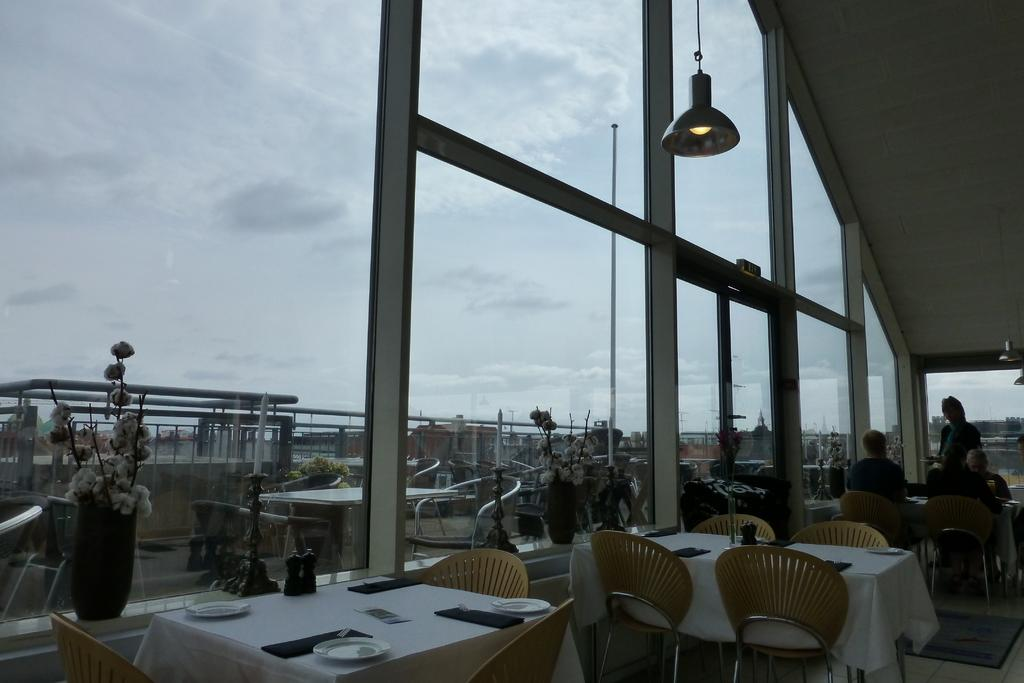Chair: (714, 544, 849, 682), (590, 530, 707, 682), (467, 596, 575, 682), (924, 494, 993, 605), (48, 611, 154, 682), (419, 548, 529, 599), (690, 513, 776, 541)
Luggage-and-bags: (679, 471, 792, 535)
